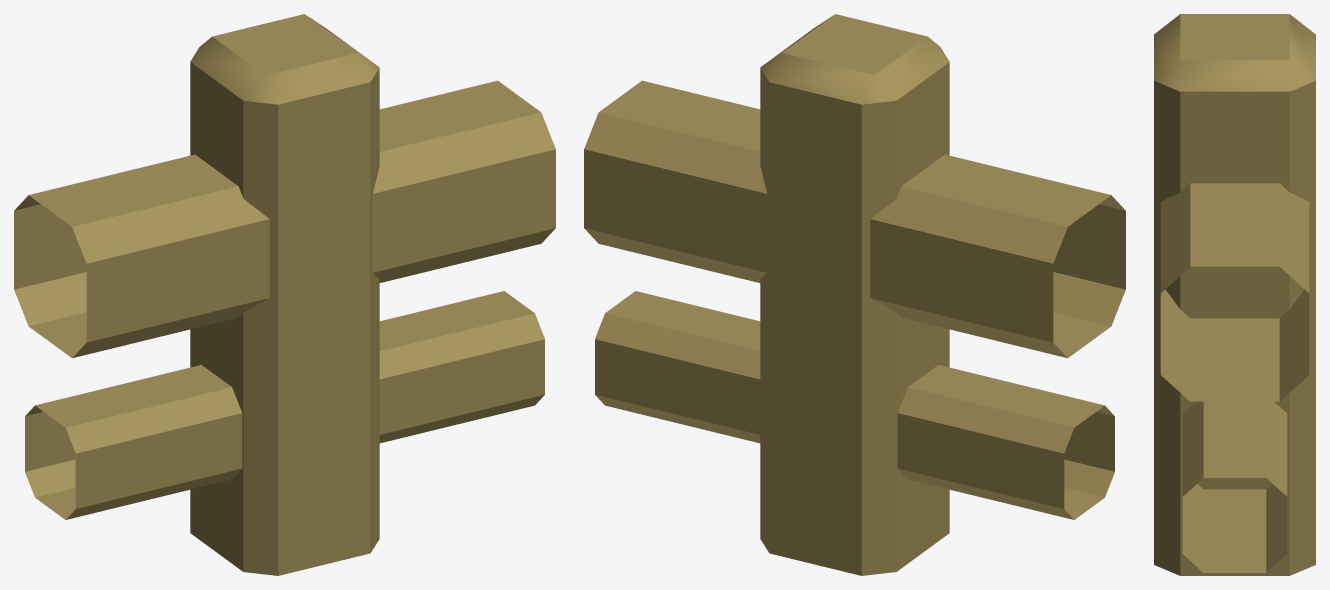
File: quaternius-cube-world-fence-center.glb
3 views of the same model, side by side, from view 1: azimuth 30°, elevation 25°; view 2: azimuth 150°, elevation 25°; view 3: azimuth 270°, elevation 25° (orthographic). The views are drawn at different scales.
Visible parts, largest first — view 1: Fence_Center; view 2: Fence_Center; view 3: Fence_Center.
Part boxes in pixels (x1,y1,x2,y2): Fence_Center: (14, 14, 555, 575); Fence_Center: (584, 14, 1125, 575); Fence_Center: (1154, 14, 1315, 575).
Bounding box in the file's own units: 2 × 2 × 0.5811.
1 material, 1 textured.
